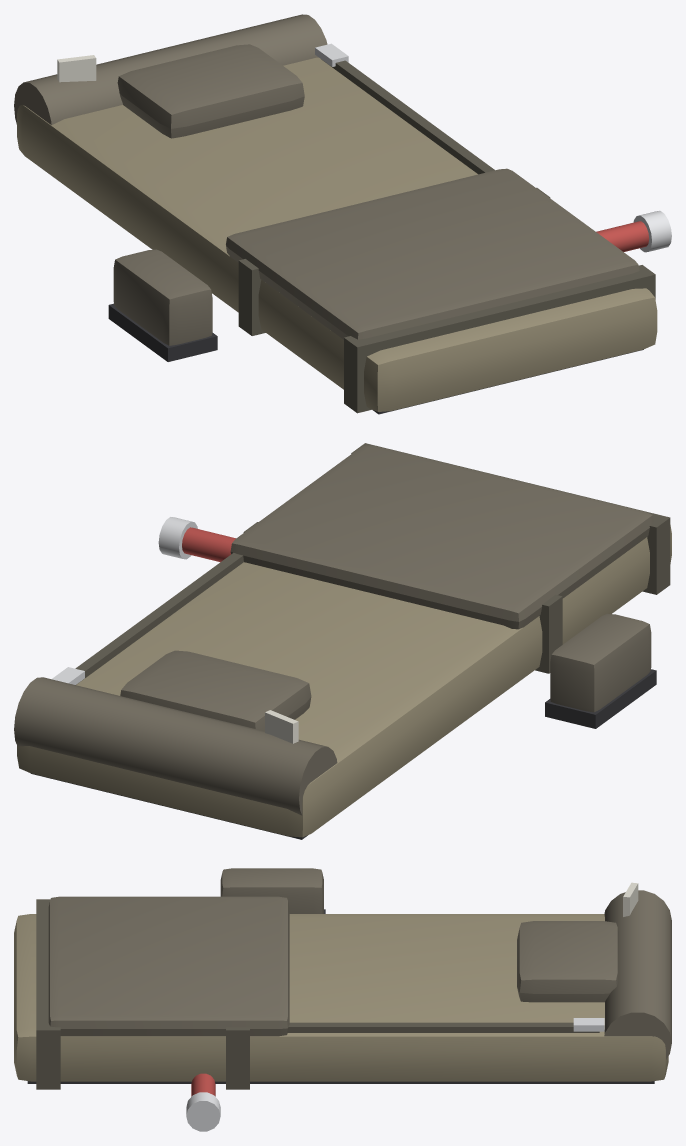
The model's file is DD_sleepingbag.fbx.
3 views of the same model, one above another, from view 1: azimuth 30°, elevation 25°; view 2: azimuth 150°, elevation 25°; view 3: azimuth 270°, elevation 25° (orthographic). The views are drawn at different scales.
Parts seen in each view (by area): view 1: DD_sleepingbag; view 2: DD_sleepingbag; view 3: DD_sleepingbag.
Part boxes in pixels (x1,y1,x2,y2): DD_sleepingbag: (14, 14, 671, 414); DD_sleepingbag: (14, 443, 671, 839); DD_sleepingbag: (14, 868, 671, 1131).
Bounding box in the file's own units: 1.46 × 0.295 × 1.91.
